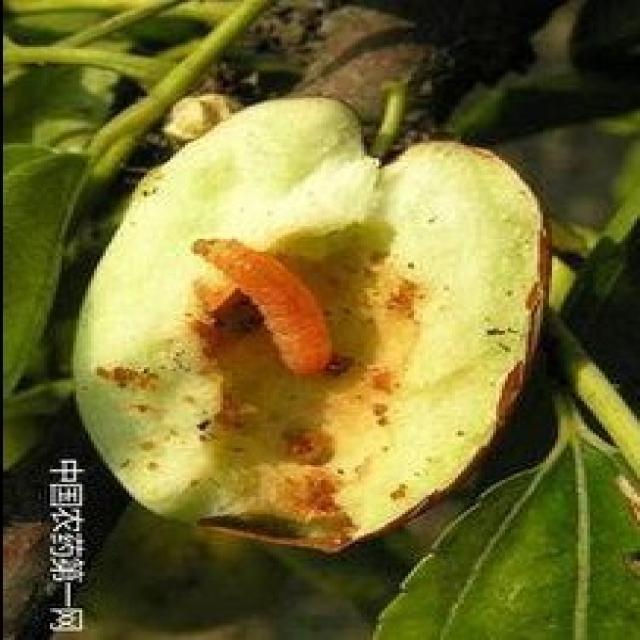peach borer: (189, 236, 341, 377)
